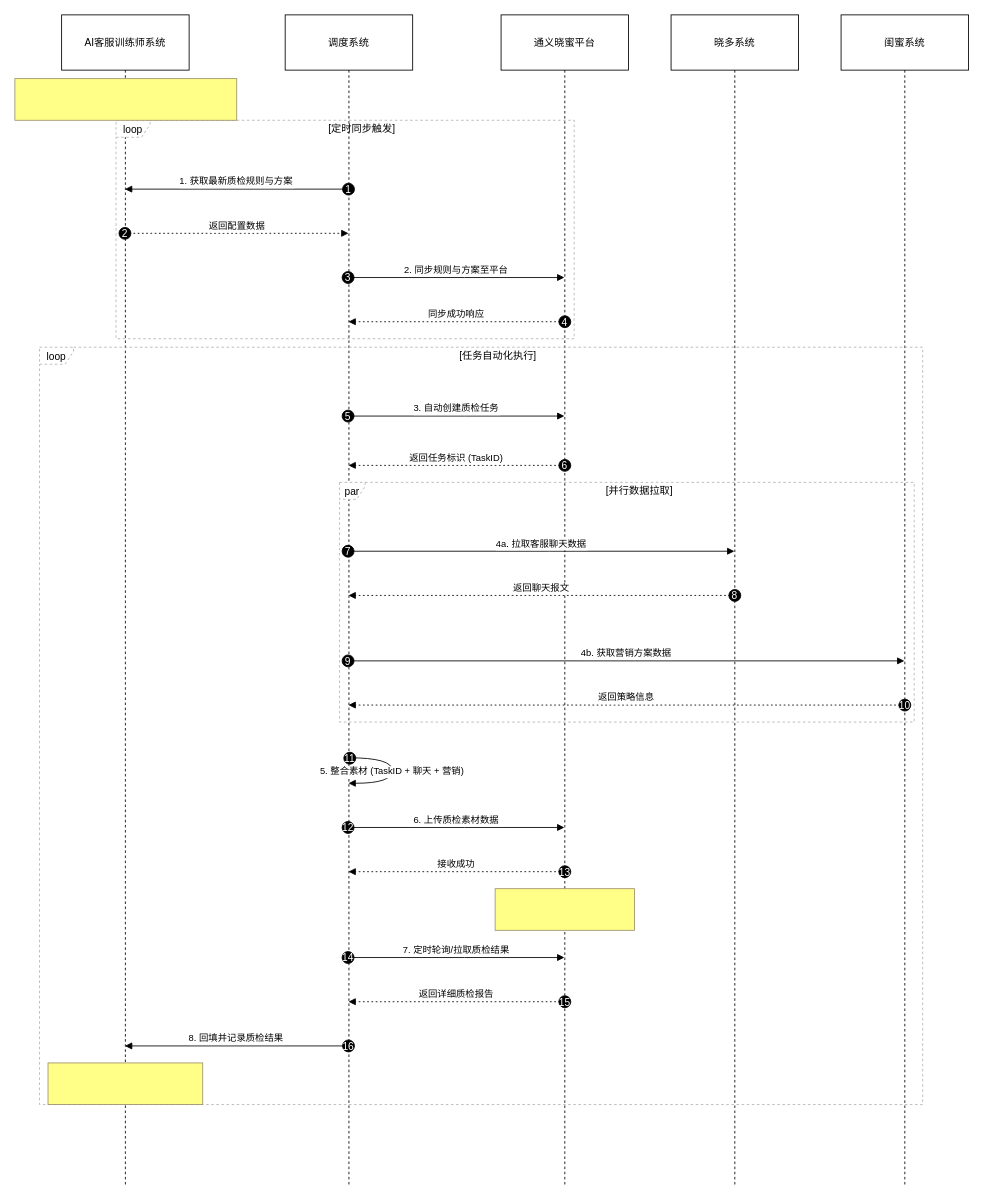
The diagram is 983 pixels wide and 1200 high, and some of its shapes have lost their labels. The box of each missing label's shape, as (x1, y1, x2, y2) in pixels:
AI 引擎自动质检中...: (494, 888, 635, 930)
业务维护：质检规则、方案、任务: (14, 78, 237, 120)
界面展示质检结果报表: (47, 1062, 203, 1105)
